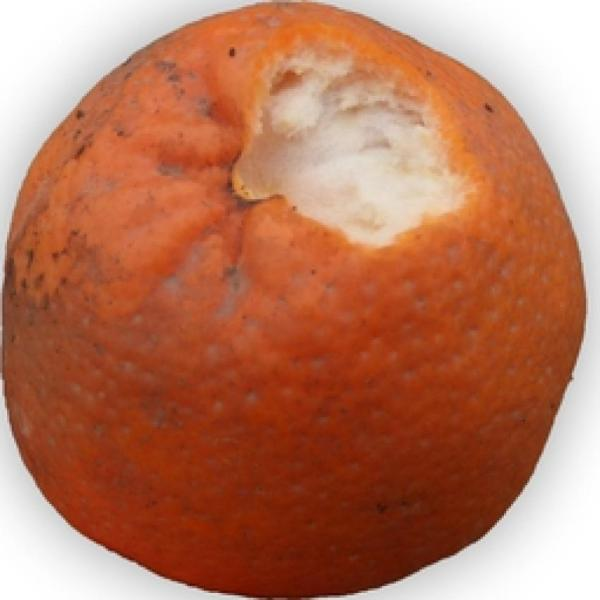Canker: (0, 2, 593, 599)
